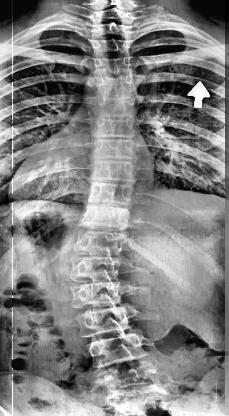Vertebrae: (84, 332, 148, 370), (74, 306, 130, 340), (70, 228, 124, 258), (68, 254, 122, 284), (69, 281, 123, 311), (78, 203, 132, 232), (88, 155, 138, 185), (88, 112, 140, 140), (85, 179, 135, 207), (91, 93, 141, 119), (89, 135, 136, 161), (90, 54, 136, 80), (89, 36, 133, 60), (93, 72, 135, 96), (90, 22, 134, 42)
